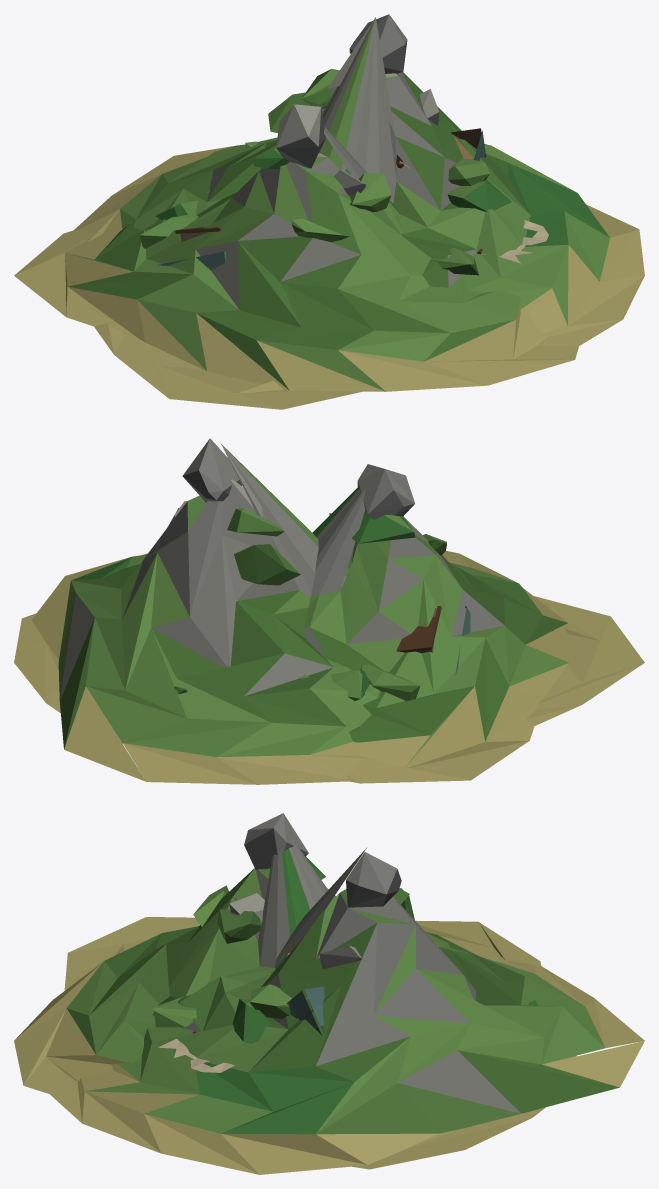
The model's file is mundo.glb.
The picture shows the model from 3 angles, top to bottom: view 1: azimuth 30°, elevation 25°; view 2: azimuth 150°, elevation 25°; view 3: azimuth 270°, elevation 25°; orthographic projection.
Parts seen in each view (by area): view 1: mundo_colinas_1, mundo_colinas_0, mundo_naufragio; view 2: mundo_colinas_0, mundo_colinas_1, mundo_naufragio; view 3: mundo_colinas_0, mundo_colinas_1, mundo_naufragio.
Part boxes in pixels (x1,y1,x2,y2): mundo_colinas_1: [14, 104, 578, 391]; mundo_colinas_0: [74, 14, 644, 409]; mundo_naufragio: [157, 128, 548, 270]; mundo_colinas_0: [32, 438, 644, 784]; mundo_colinas_1: [14, 464, 569, 783]; mundo_naufragio: [168, 508, 470, 675]; mundo_colinas_0: [50, 848, 644, 1174]; mundo_colinas_1: [14, 813, 576, 1169]; mundo_naufragio: [158, 944, 324, 1072].
Bounding box in the file's own units: 39.19 × 16.48 × 40.49.
